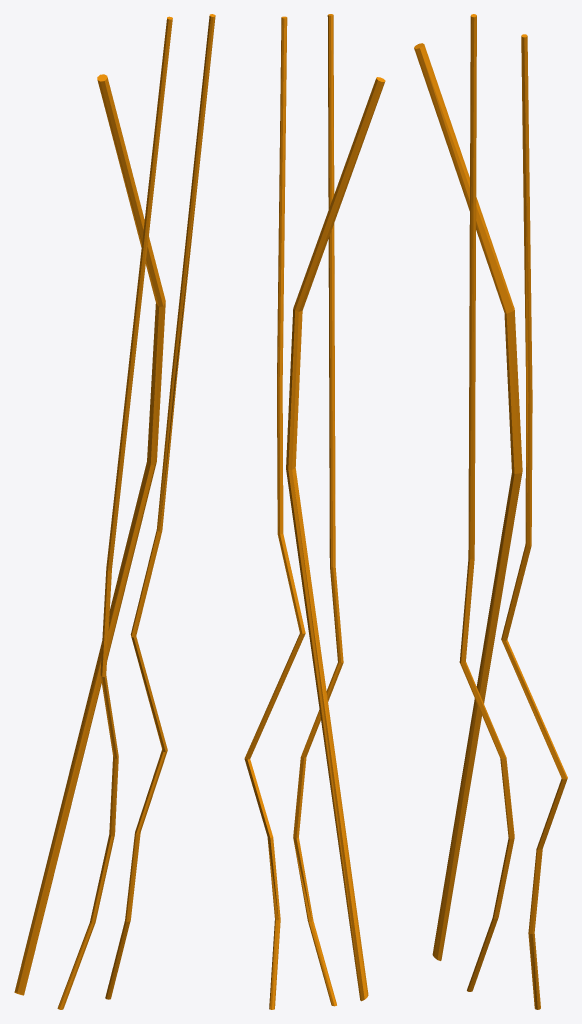
3 views of the same model, side by side, from view 1: azimuth 30°, elevation 25°; view 2: azimuth 150°, elevation 25°; view 3: azimuth 330°, elevation 25° (orthographic). The views are drawn at different scales.
Visible parts, largest first — view 1: group_1041283119, group_1774180581, group_681922313; view 2: group_1041283119, group_681922313, group_1774180581; view 3: group_1041283119, group_681922313, group_1774180581.
Part boxes in pixels (x1,y1,x2,y2): group_1041283119: (14, 74, 165, 995); group_1774180581: (57, 16, 172, 1009); group_681922313: (105, 14, 215, 999); group_1041283119: (286, 77, 385, 1001); group_681922313: (244, 16, 305, 1009); group_1774180581: (293, 14, 343, 1006); group_1041283119: (414, 43, 522, 960); group_681922313: (501, 34, 567, 1009); group_1774180581: (459, 14, 514, 991).
Size of the model in its own units: 3.93 by 26.3 by 3.04.
